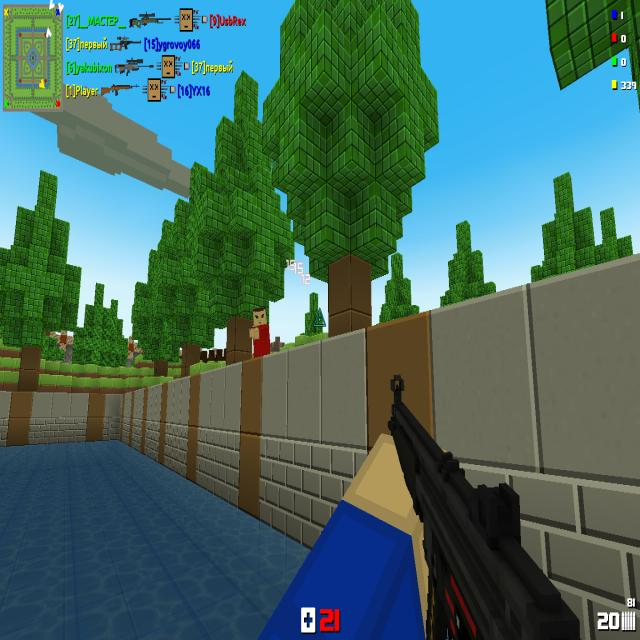enemy: (249, 307, 270, 358)
